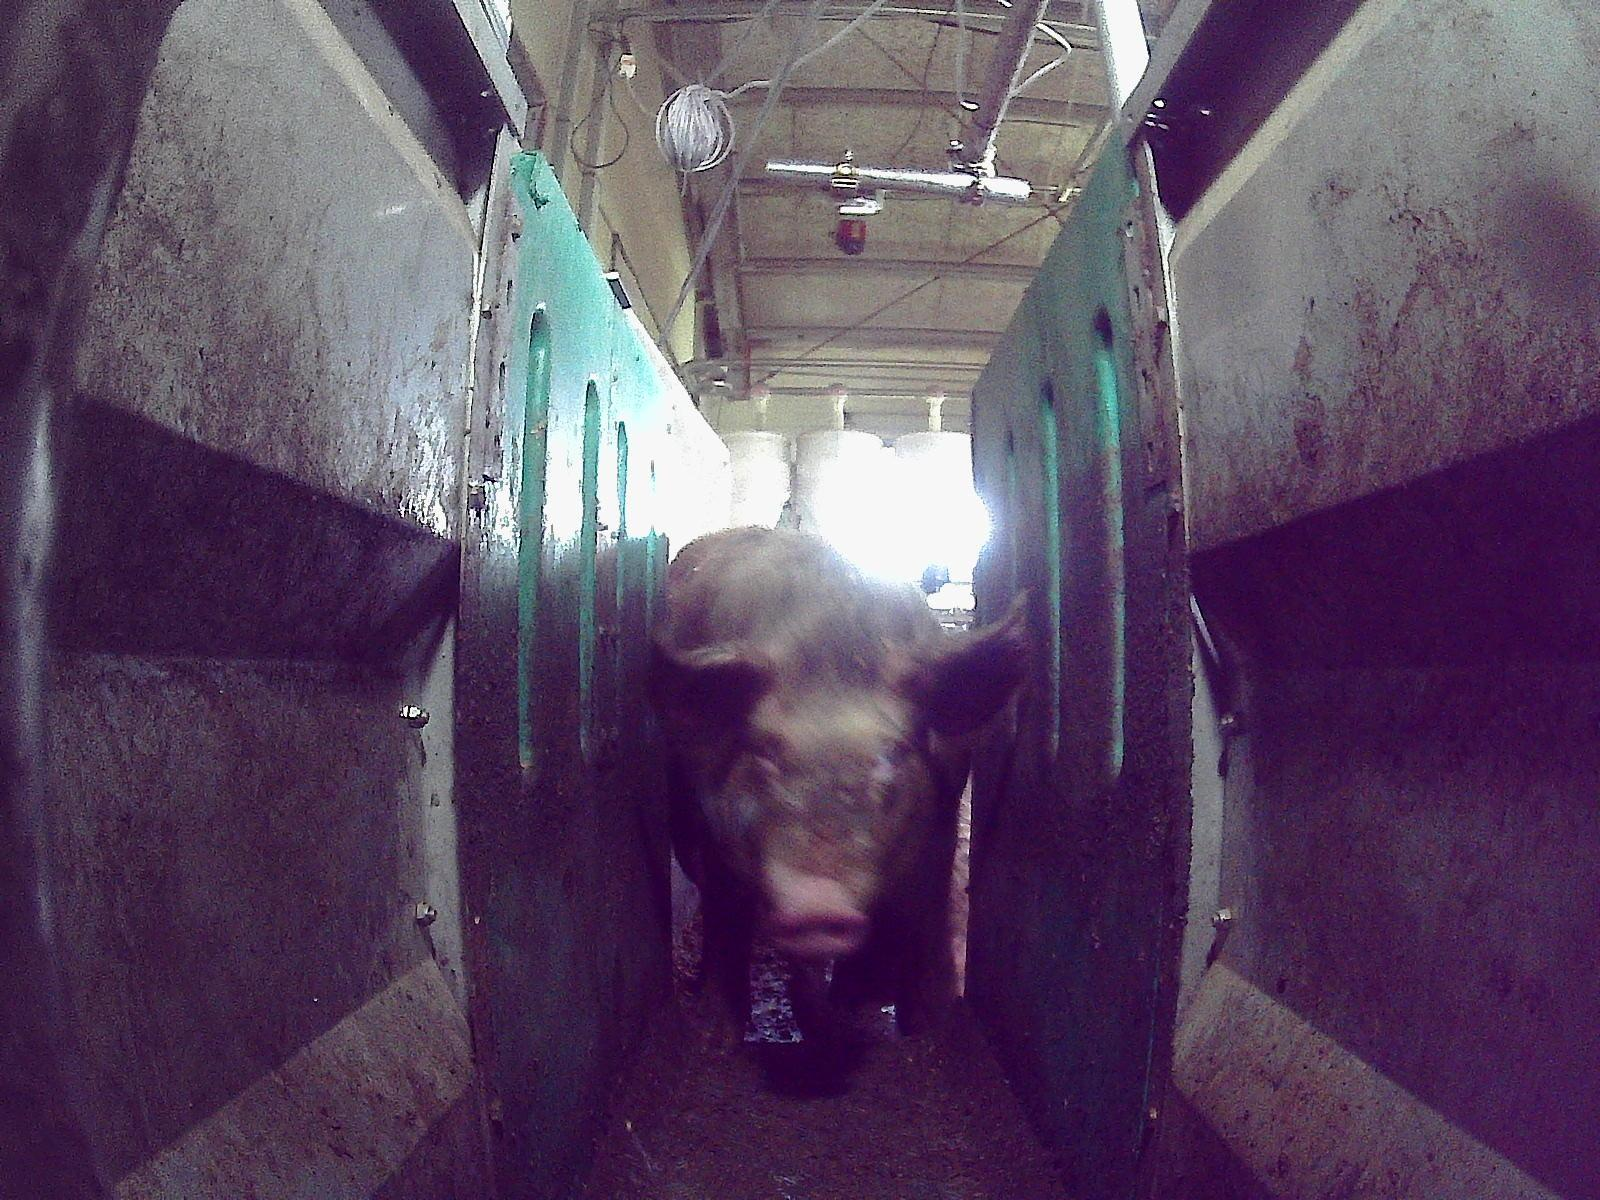Face: (700, 639, 939, 953)
